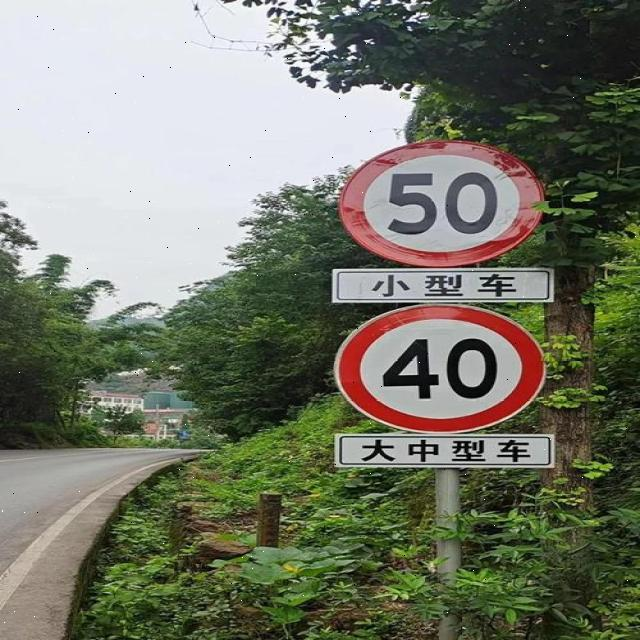speed limit 40: (331, 303, 550, 432)
speed limit 50: (335, 143, 546, 266)
